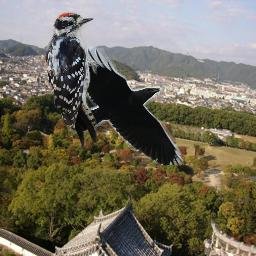Crow: (68, 46, 184, 165)
Woodpecker: (43, 12, 97, 148)
